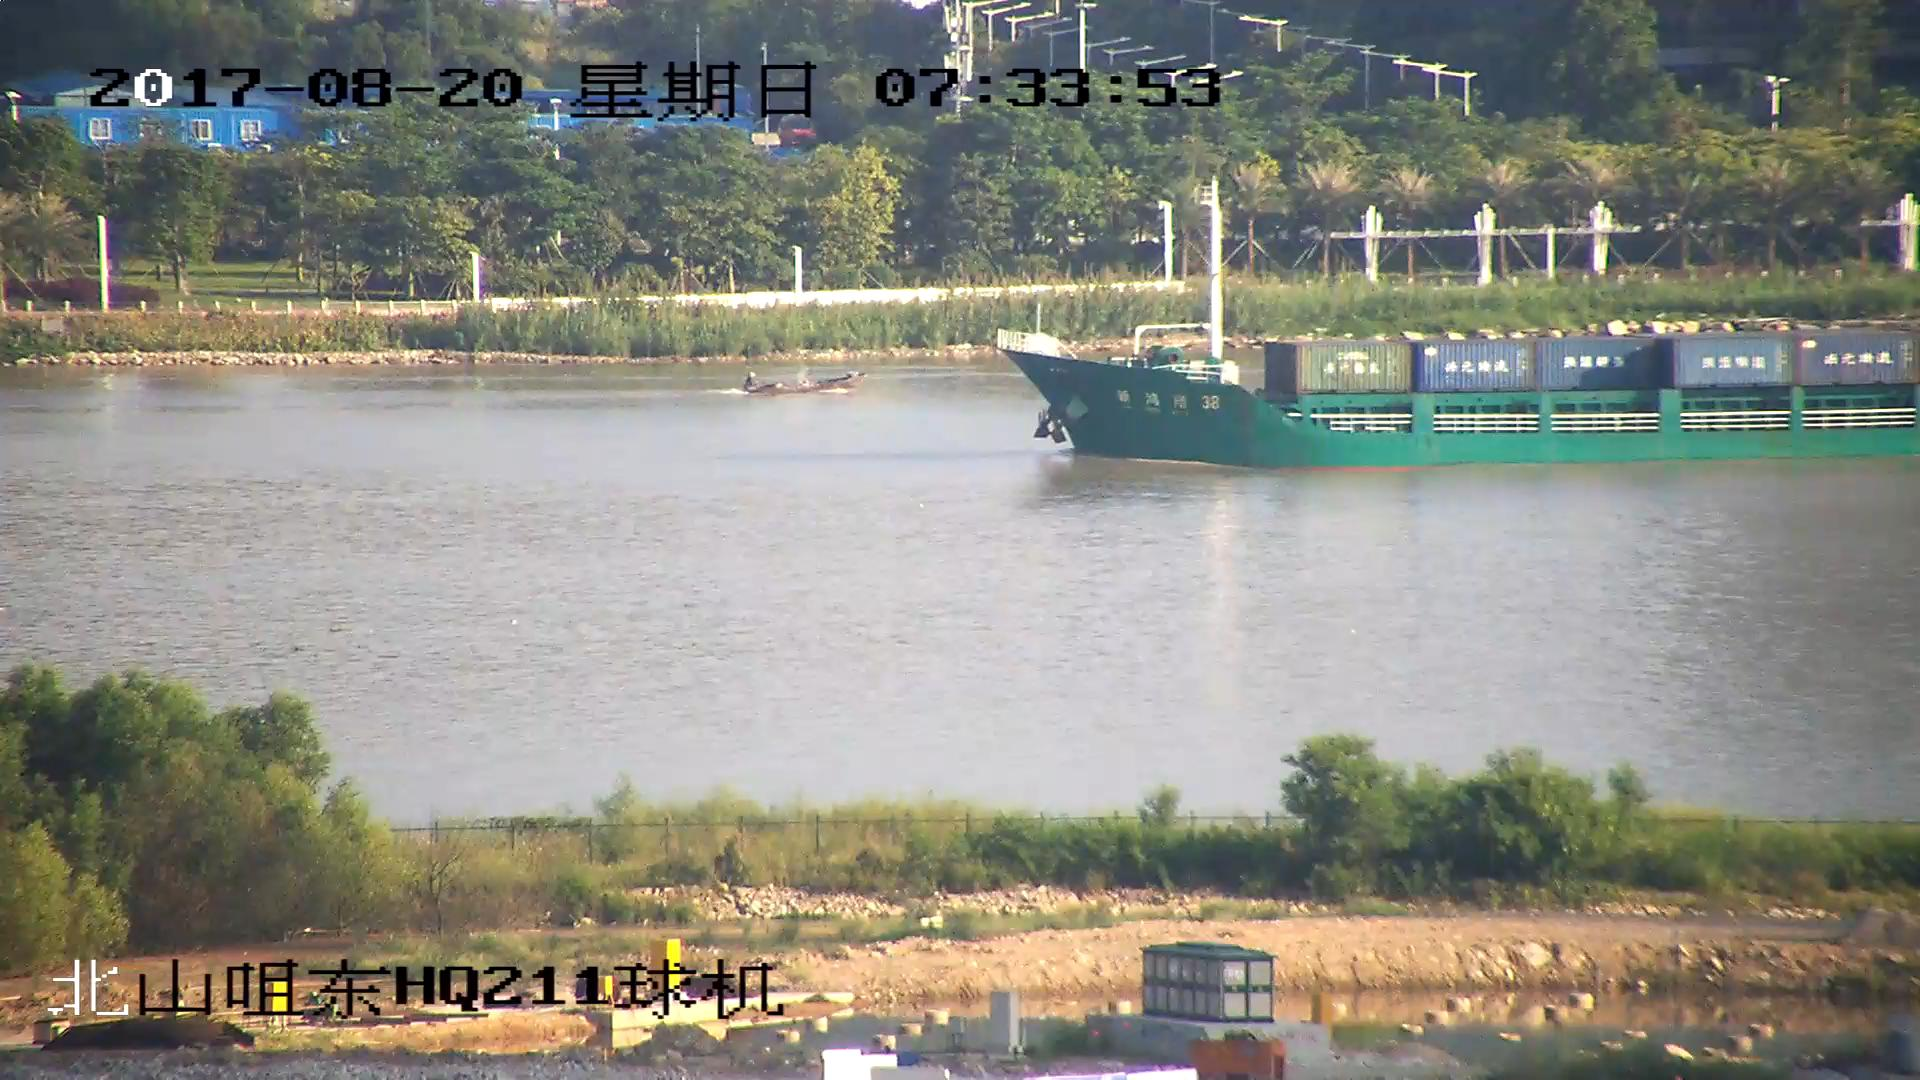fishing boat: (742, 367, 868, 401)
general cargo ship: (993, 179, 1920, 472)
